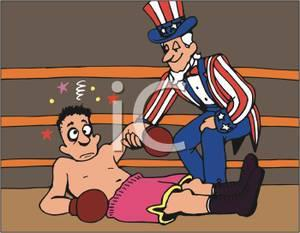person: (37, 105, 264, 224), (115, 2, 256, 187)
